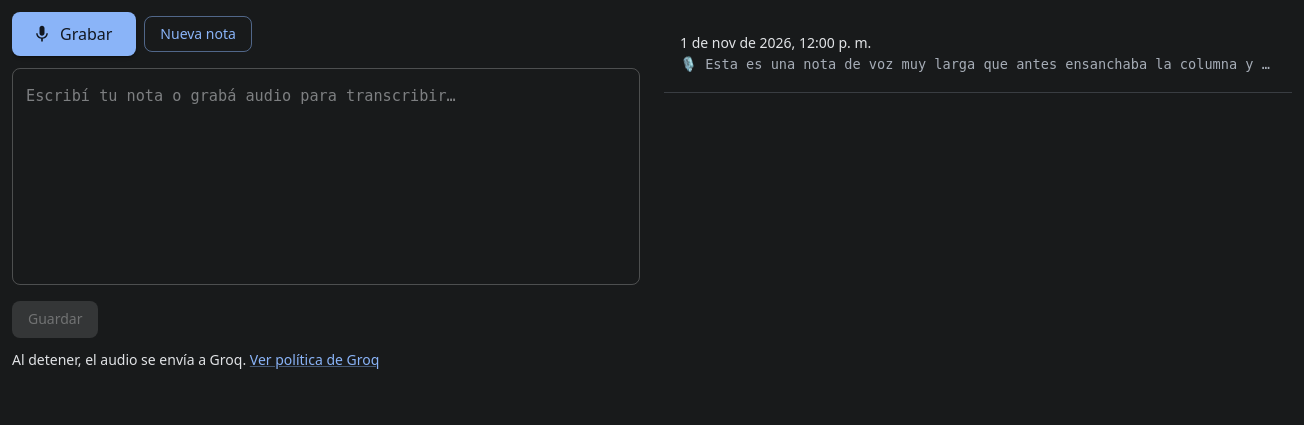
Scenario: Señales de grabación (UI-08) › «Detener» envía una sola transcripción y retira las señales de grabación
Step 1. Click the button "Grabar" → point(74, 34), box [12, 12, 136, 56]
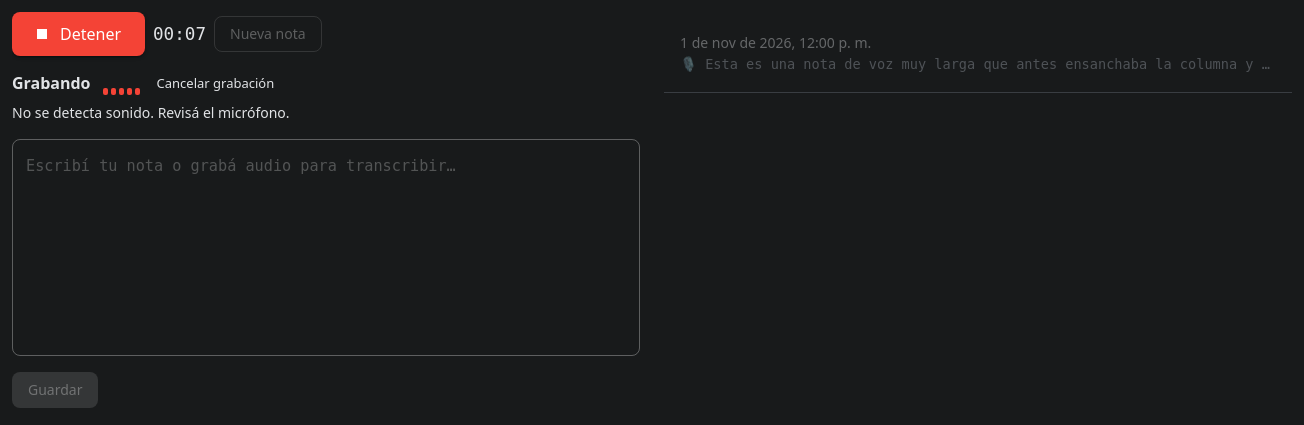
Step 2. Click the button with aria-label "Detener y transcribir" → point(78, 34), box [12, 12, 145, 56]
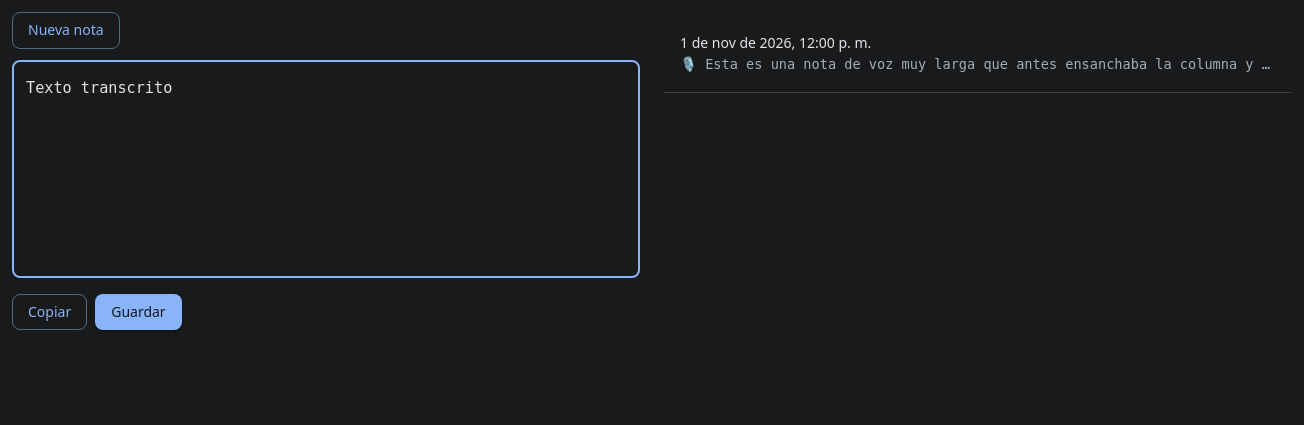
expect the text box named "Texto de la nota" holds "Texto transcrito": met, box [26, 77, 626, 261]
expect the text "No se detecta sonido" is gone: met
